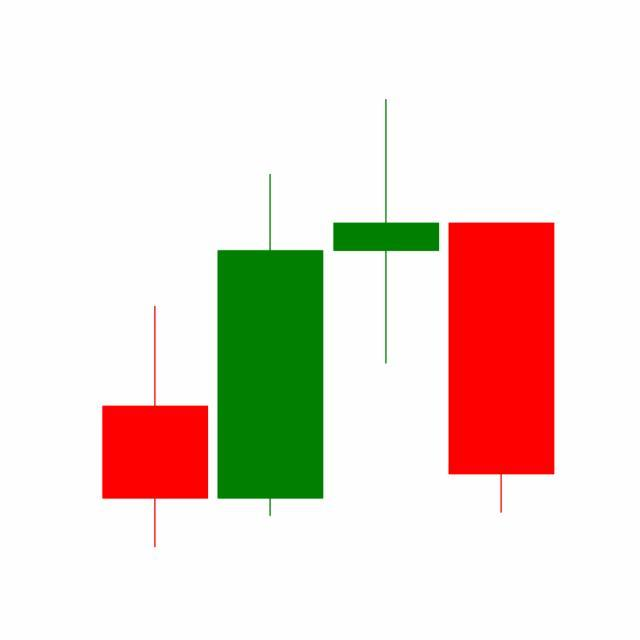Hammer: (329, 96, 445, 367)
